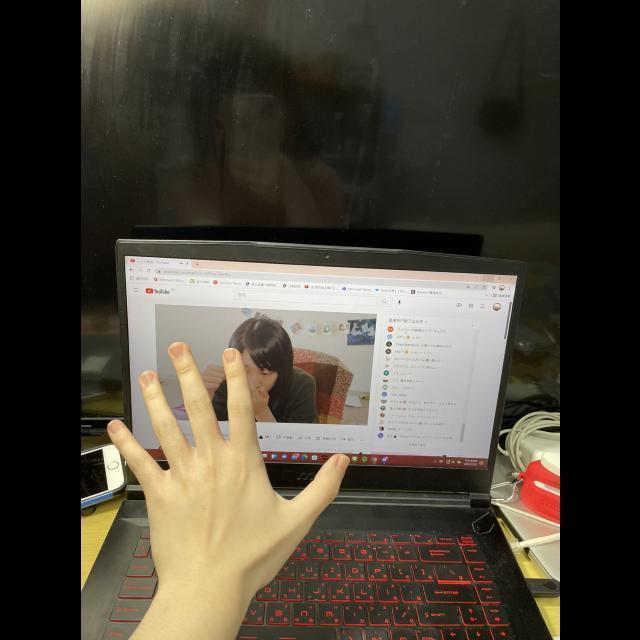bare_hand: (80, 338, 354, 617)
